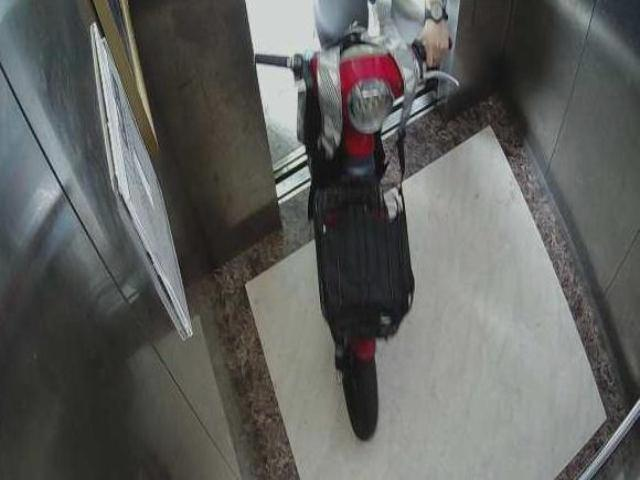emotor: (249, 3, 451, 452)
